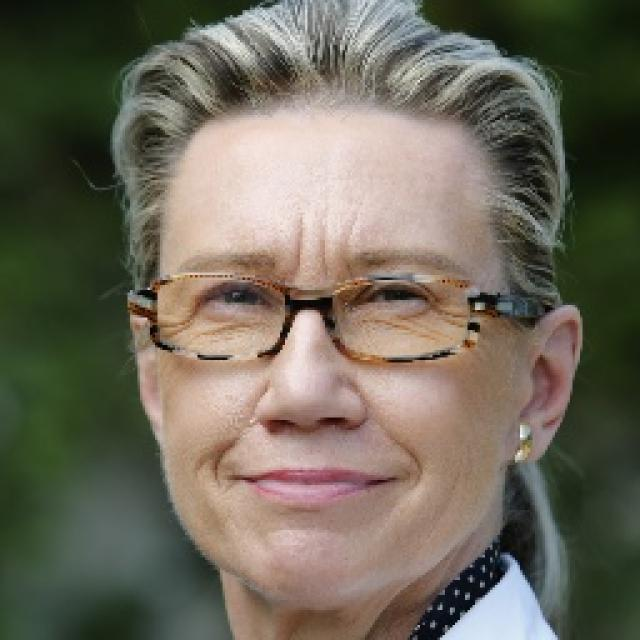earlobe: (514, 305, 583, 465), (126, 301, 166, 448)
